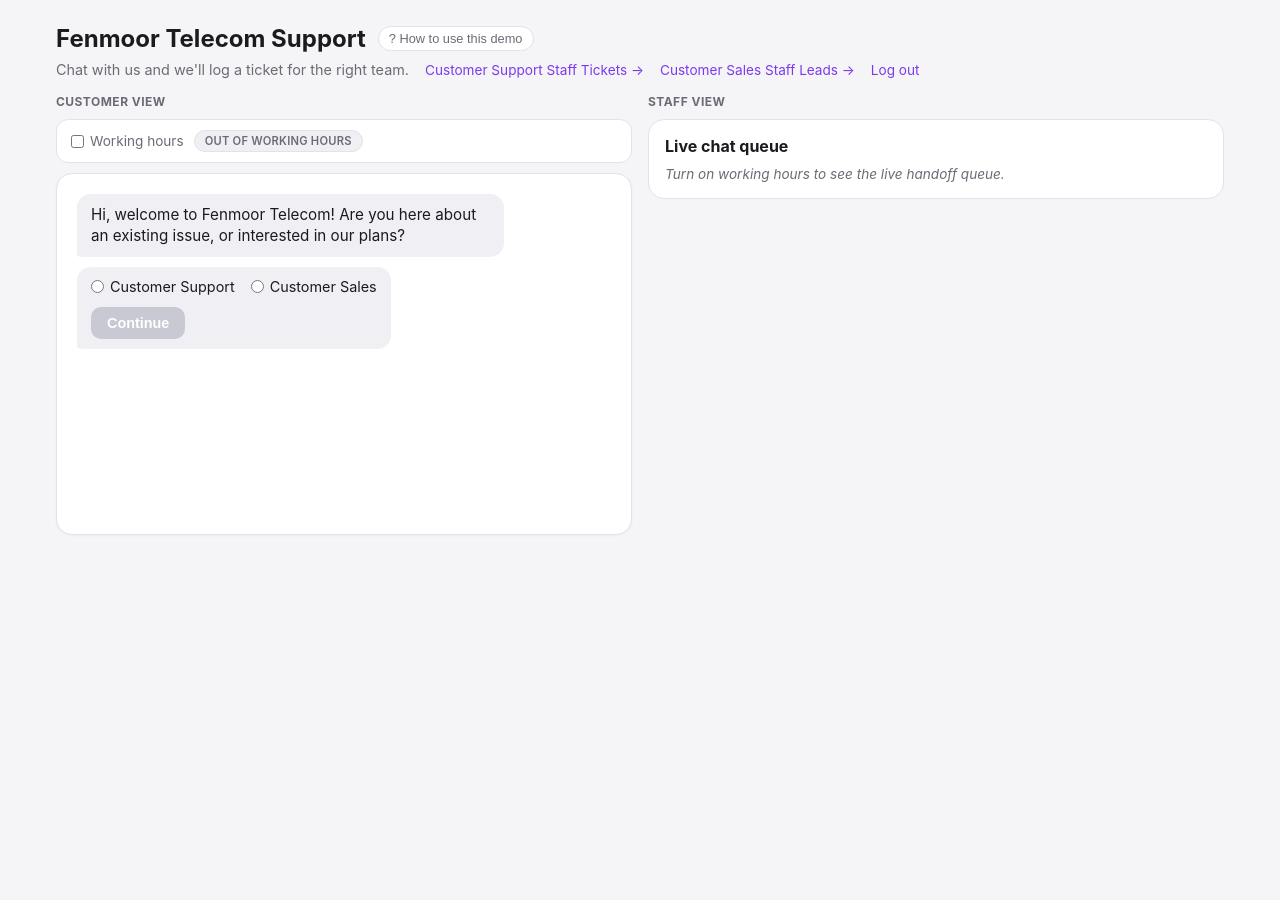
App › renders a LeadCard when a sales conversation's response includes a lead
Click the radio button labelled "Customer Sales" at (257, 287), box [251, 280, 264, 293]
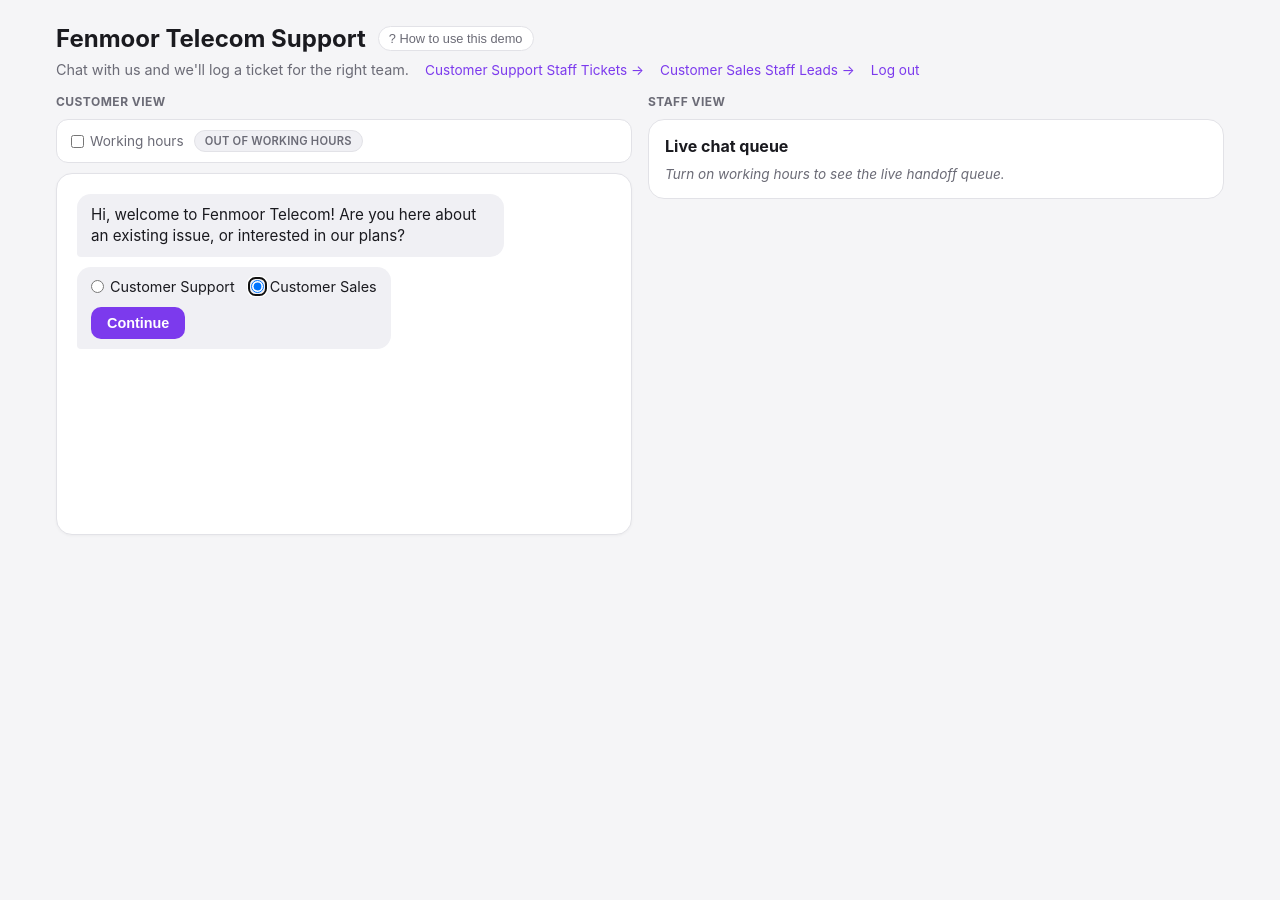
Click the button "Continue" at (138, 323), box [91, 307, 185, 339]
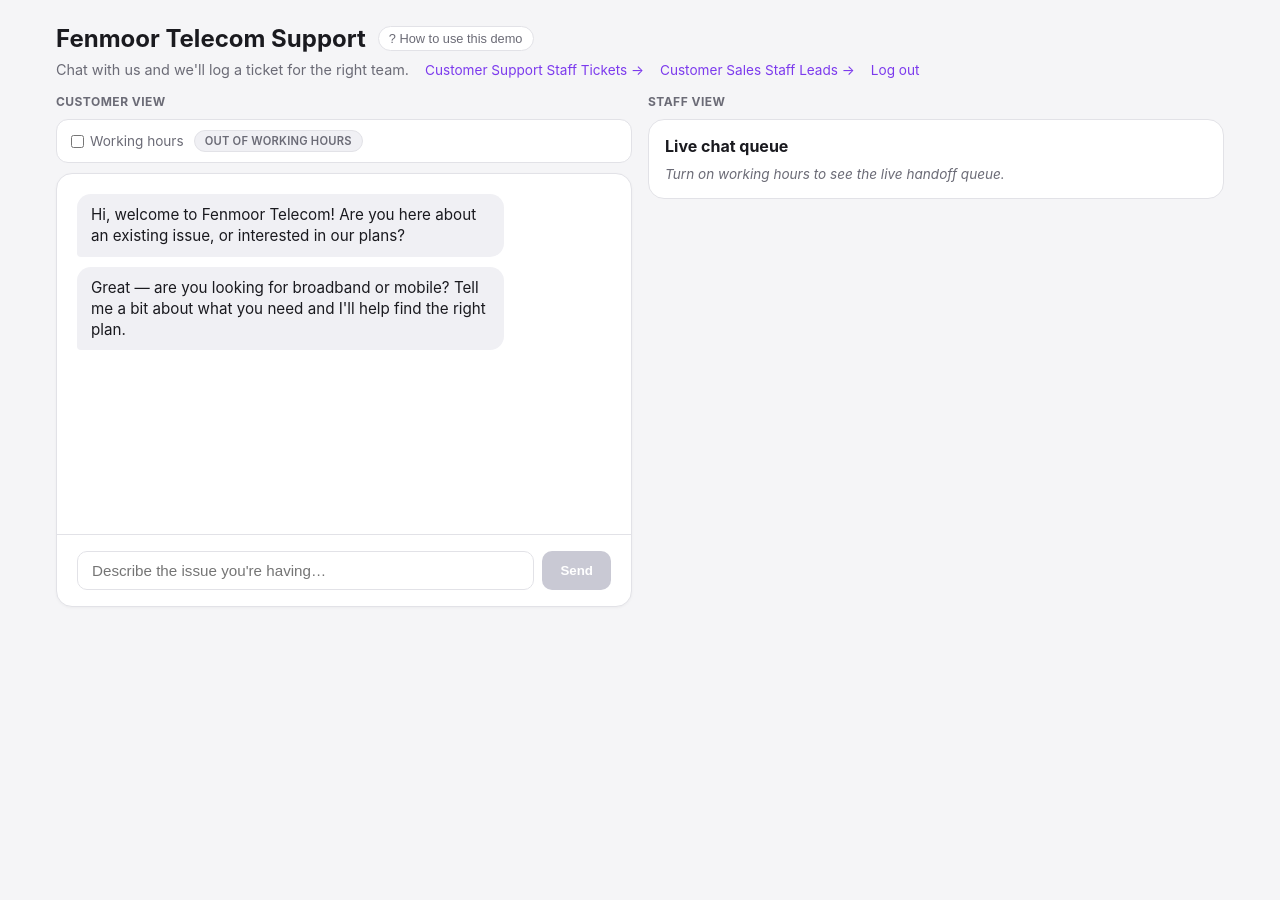
Type "sign me up for the 220 plan" into the field with placeholder "Describe the issue you're having…" at (306, 570), box [77, 551, 534, 590]
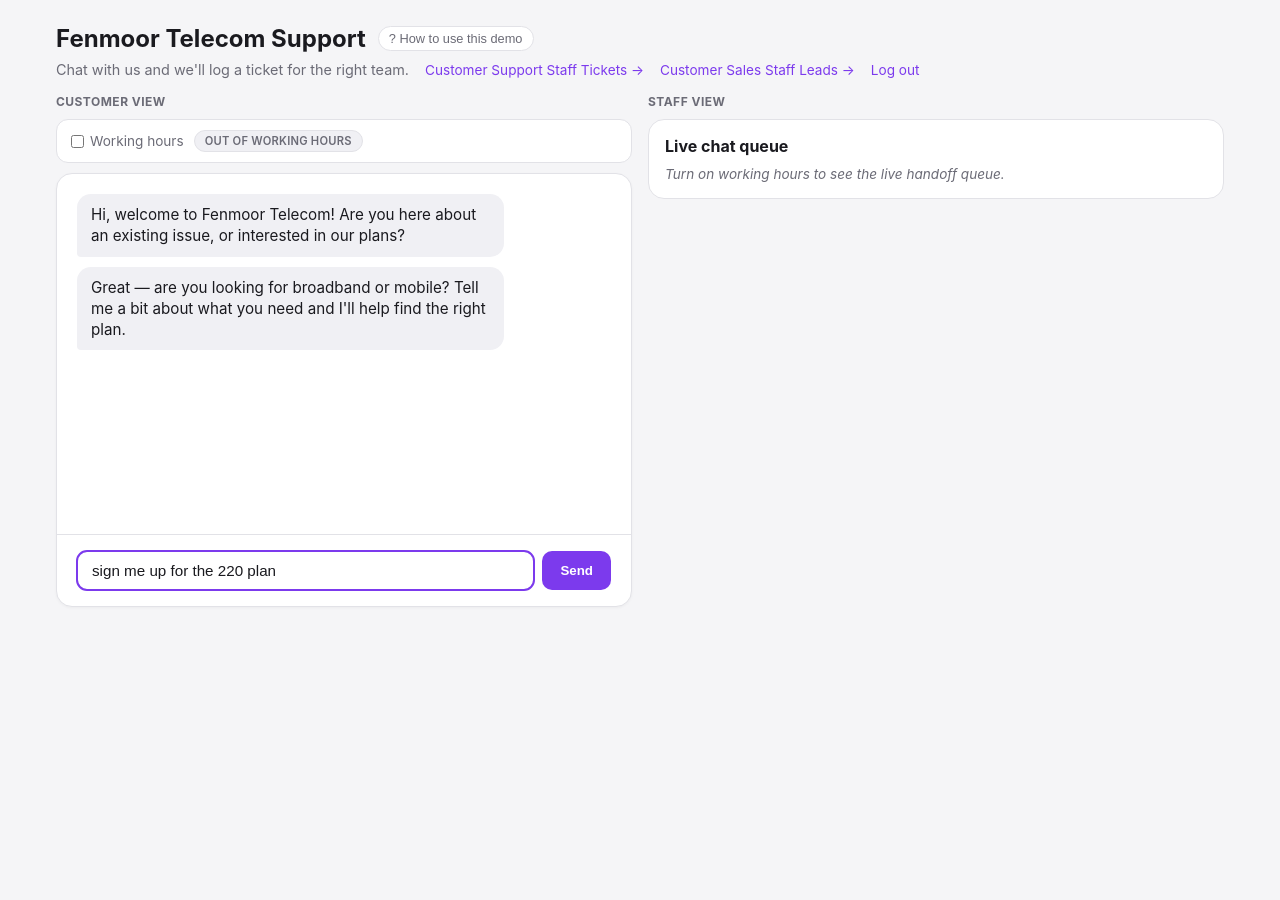
Click the button "Send" at (577, 570), box [542, 551, 611, 590]
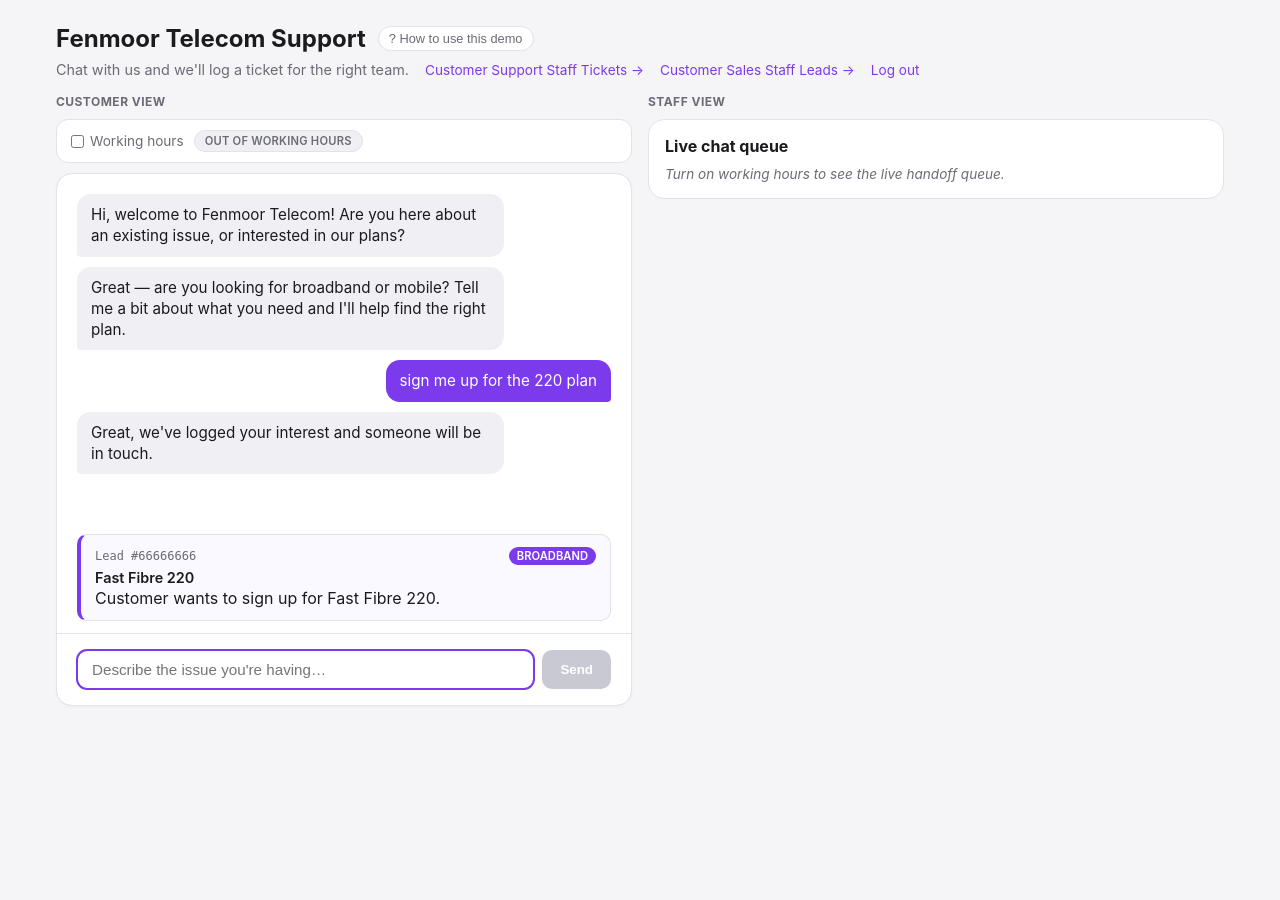
Expected: the text "Customer wants to sign up for Fast Fibre 220." is shown, [95, 588, 440, 608]
